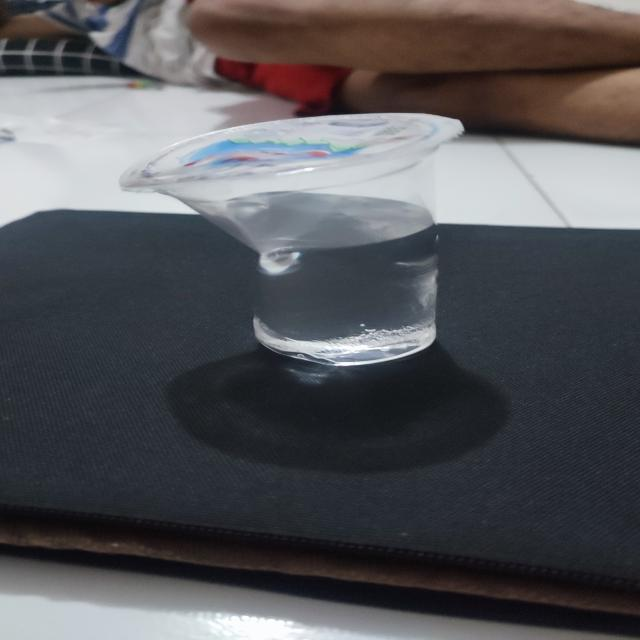air-gelas-rusak: (101, 102, 482, 353)
